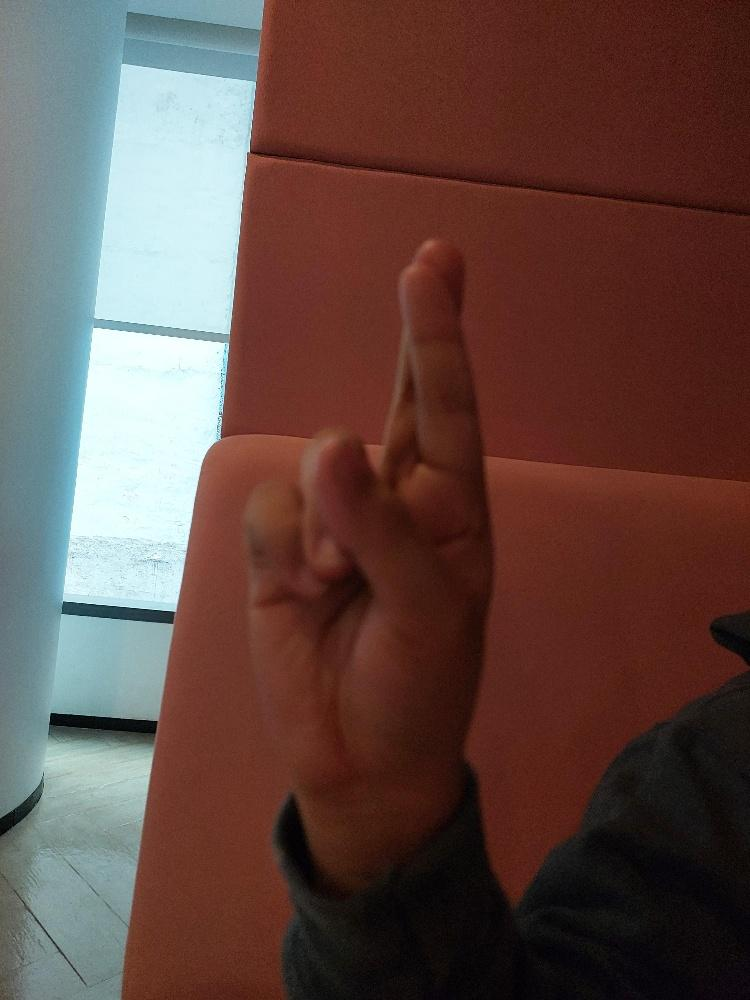r: (235, 225, 501, 805)
